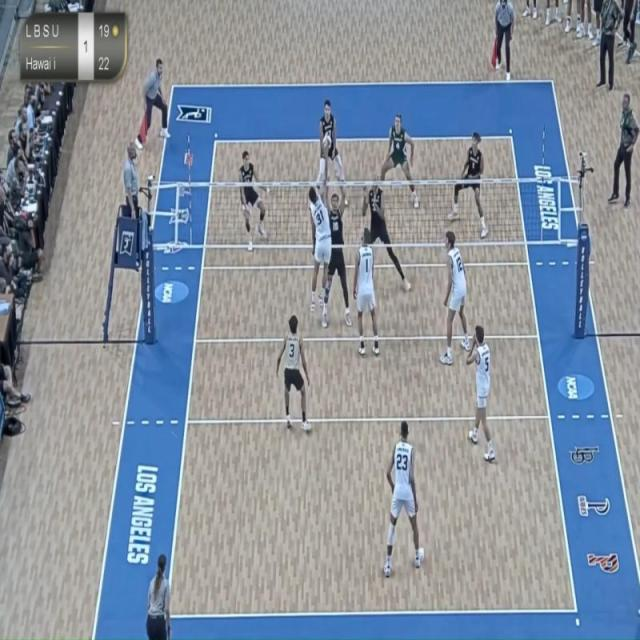volleyball: (319, 130, 335, 154)
